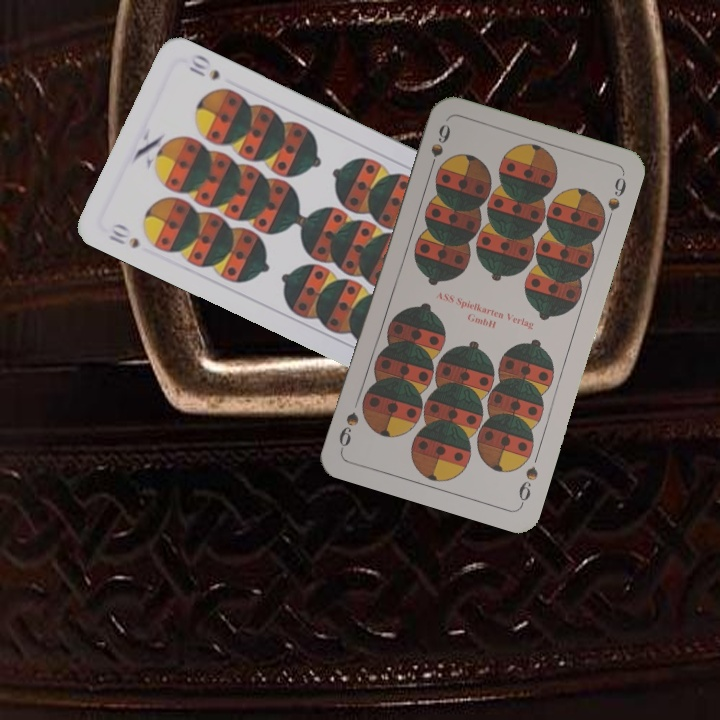S10: (104, 219, 142, 251)
S9: (424, 120, 453, 176), (514, 462, 541, 508)
